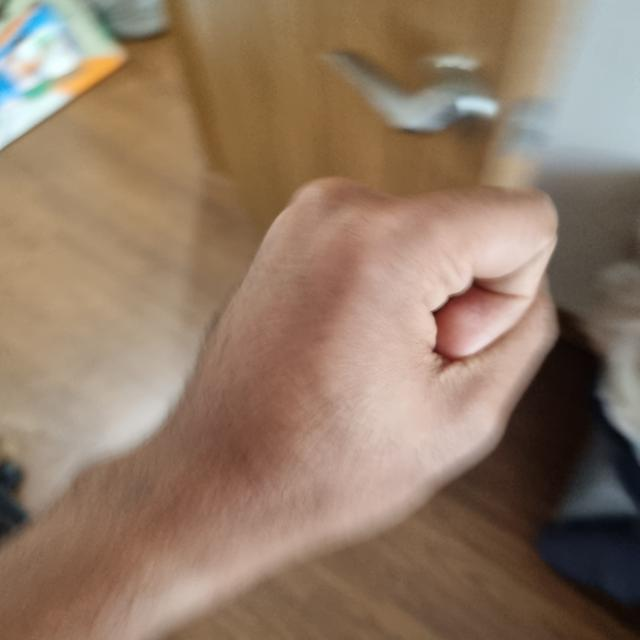Rock: (149, 177, 560, 575)
